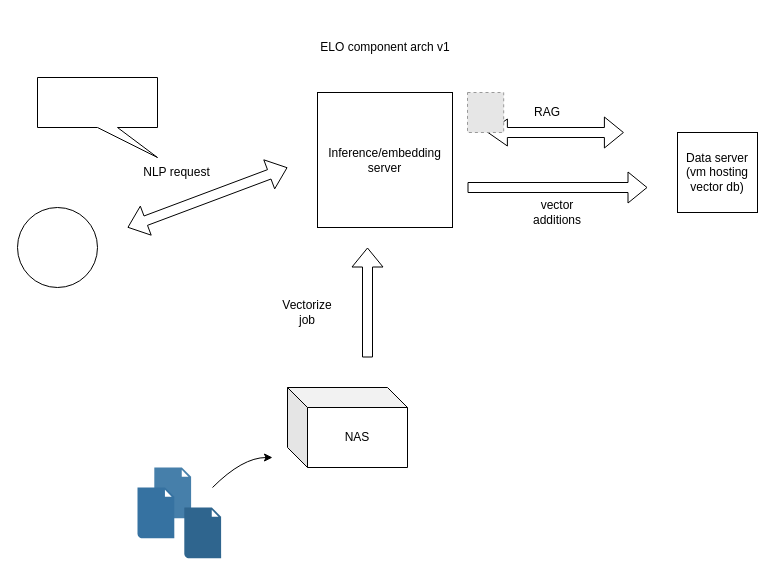
The diagram is 775 pixels wide and 575 high, and some of its shapes have lost their labels. Grey dashed boxes stand in for pictures. The box of each missing label's shape, as (x1, y1, x2, y2) in pixels:
Client: (16, 206, 98, 288)
websocket? http?: (36, 76, 158, 158)
